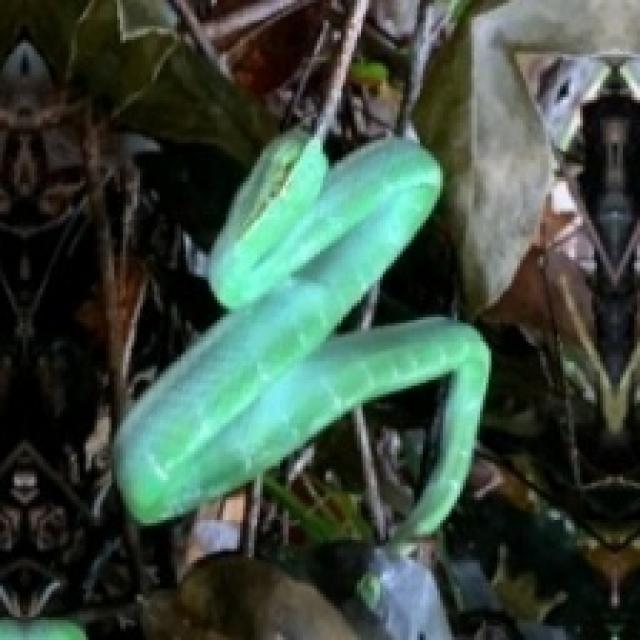north ph temple pitviper: (114, 129, 486, 537)
